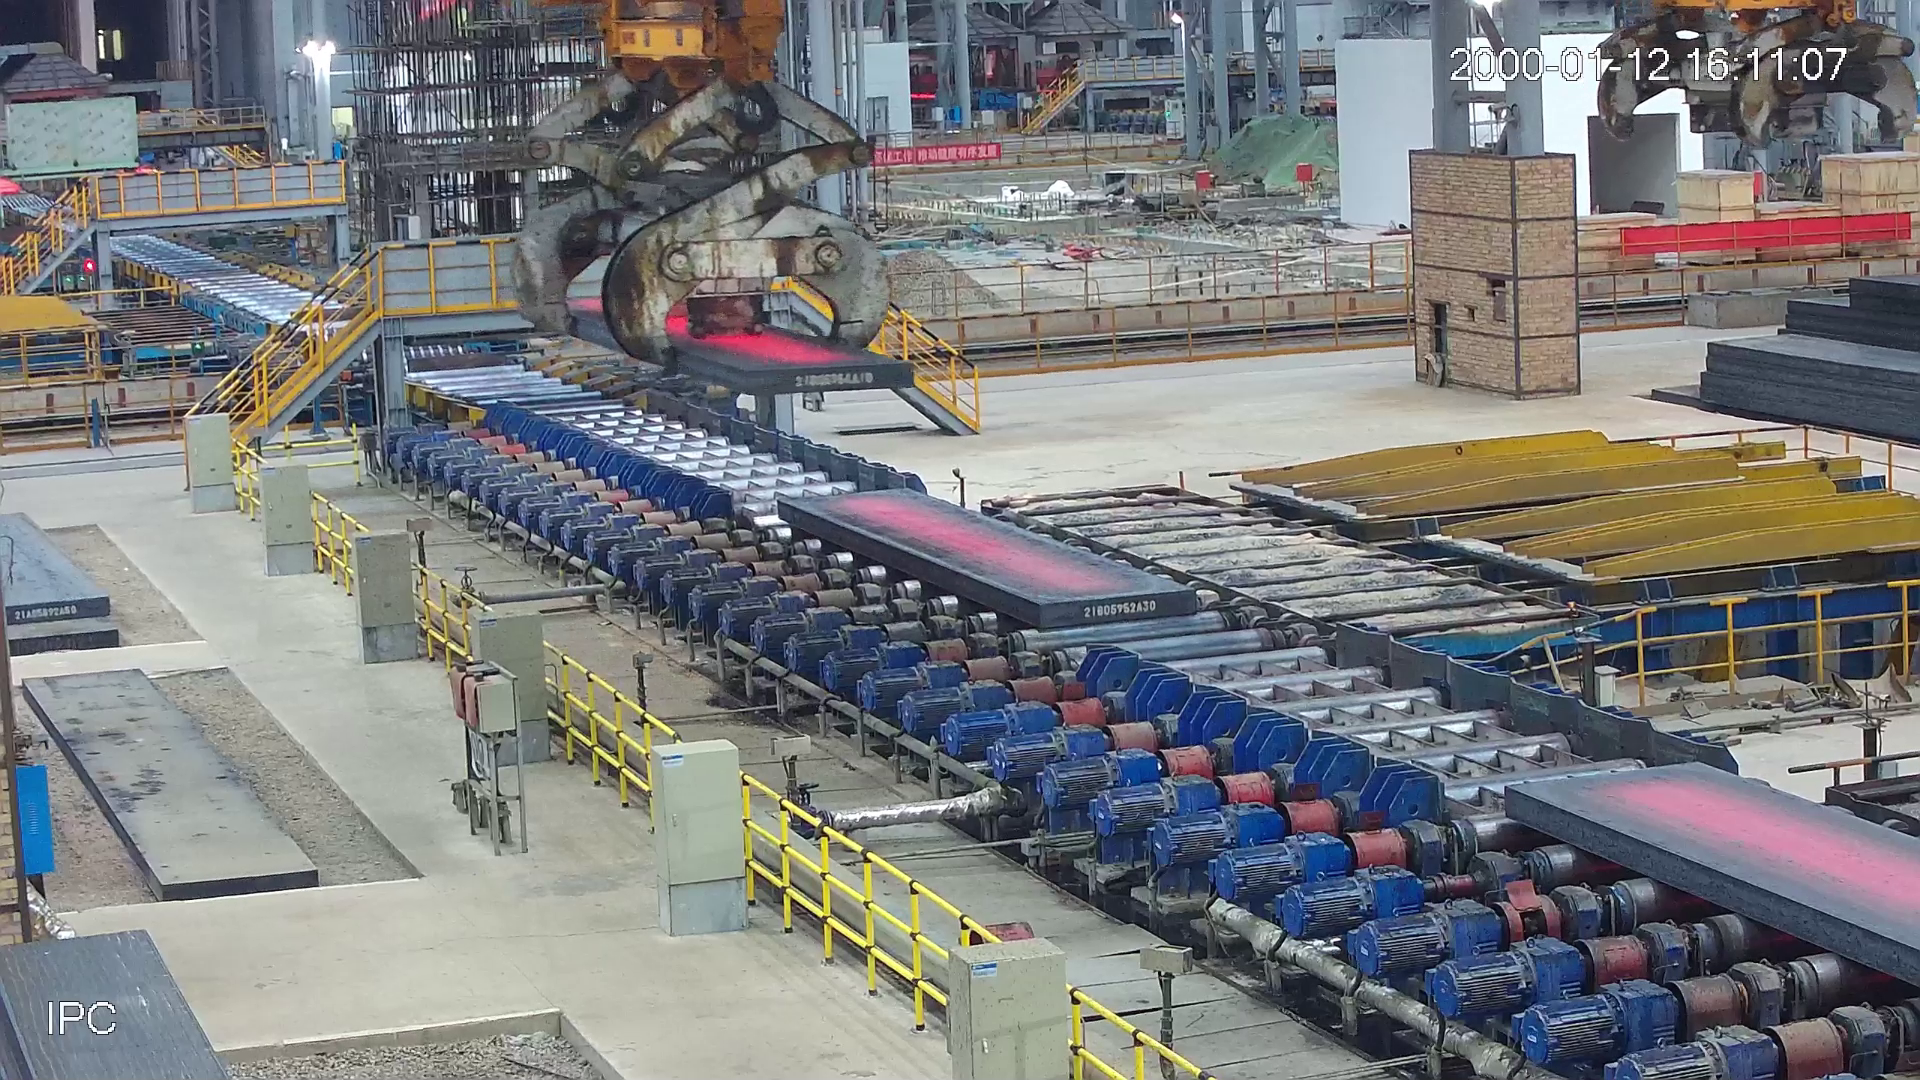crane: (1572, 1, 1920, 185)
craneandslab: (516, 1, 918, 392)
slab: (1495, 758, 1920, 989), (774, 491, 1196, 632)
